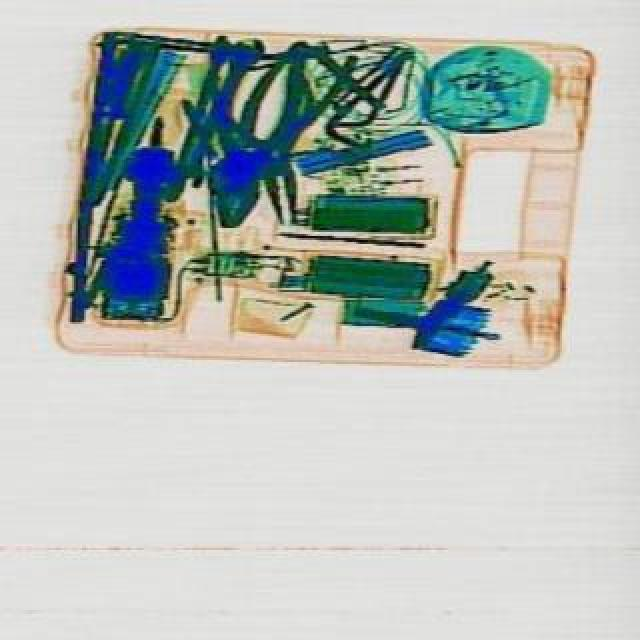wrench: (210, 54, 342, 234), (194, 52, 310, 238)
